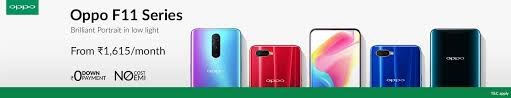oppo: (427, 22, 482, 91), (190, 22, 245, 91), (247, 41, 303, 89), (369, 43, 425, 91)
